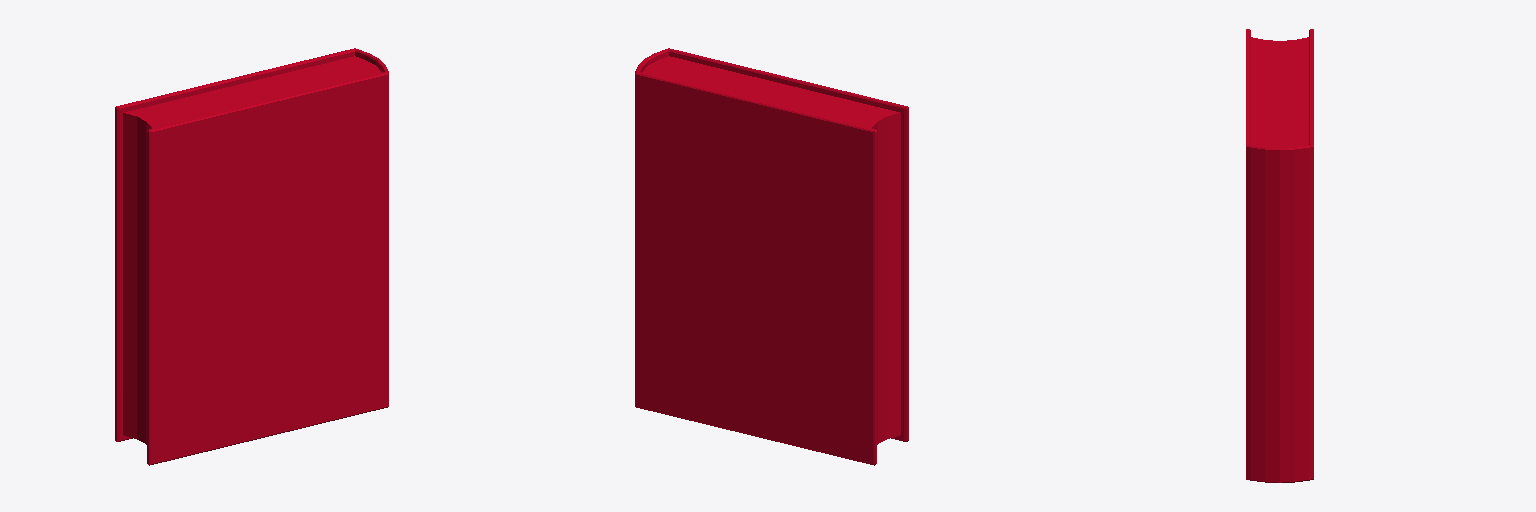
Rendered from book.obj.
3 views of the same model, side by side, from view 1: azimuth 30°, elevation 25°; view 2: azimuth 150°, elevation 25°; view 3: azimuth 270°, elevation 25° (orthographic).
Parts seen in each view (by area): view 1: book.001; view 2: book.001; view 3: book.001.
Boxes of the visible parts, box(x1,y1,x2,y2) form: book.001: box(115, 48, 388, 465); book.001: box(635, 48, 908, 465); book.001: box(1246, 29, 1313, 482).
Size of the model in its own units: 0.3378 by 0.4353 by 0.0813.